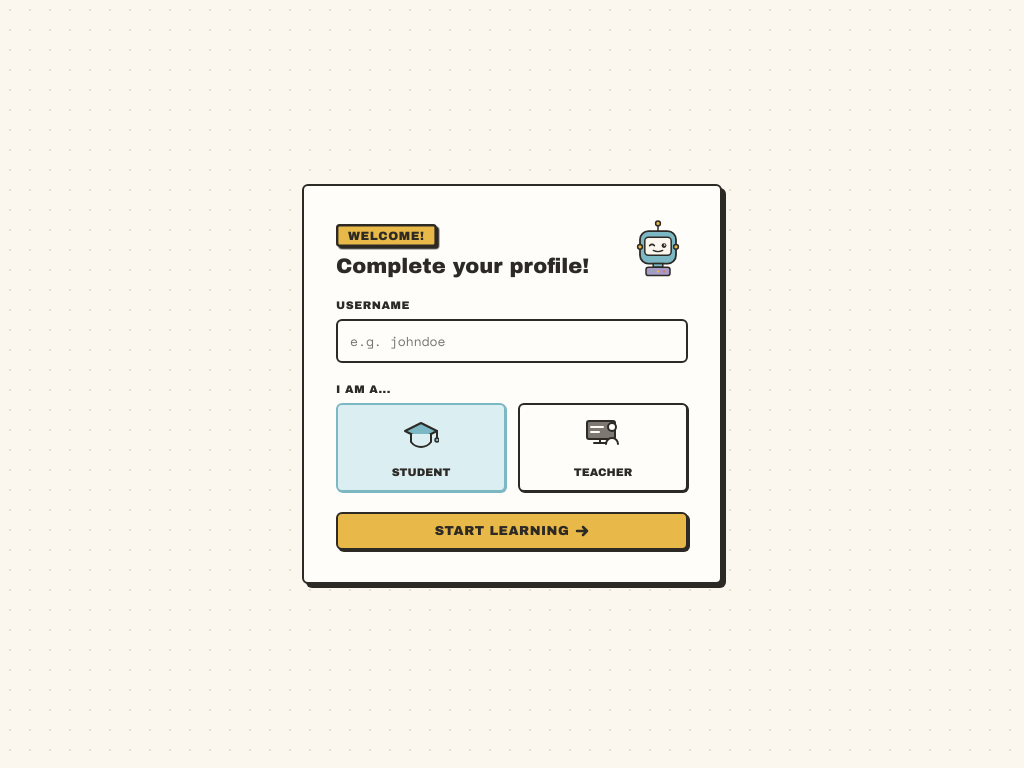
RegisterPage › shows an error when username is shorter than 3 chars
Expected: the text "Complete your profile!" is shown, x1=336 y1=254 x2=589 y2=279
Type "ab" into the field with placeholder "e.g. johndoe" at (512, 341), box x1=336 y1=319 x2=688 y2=363
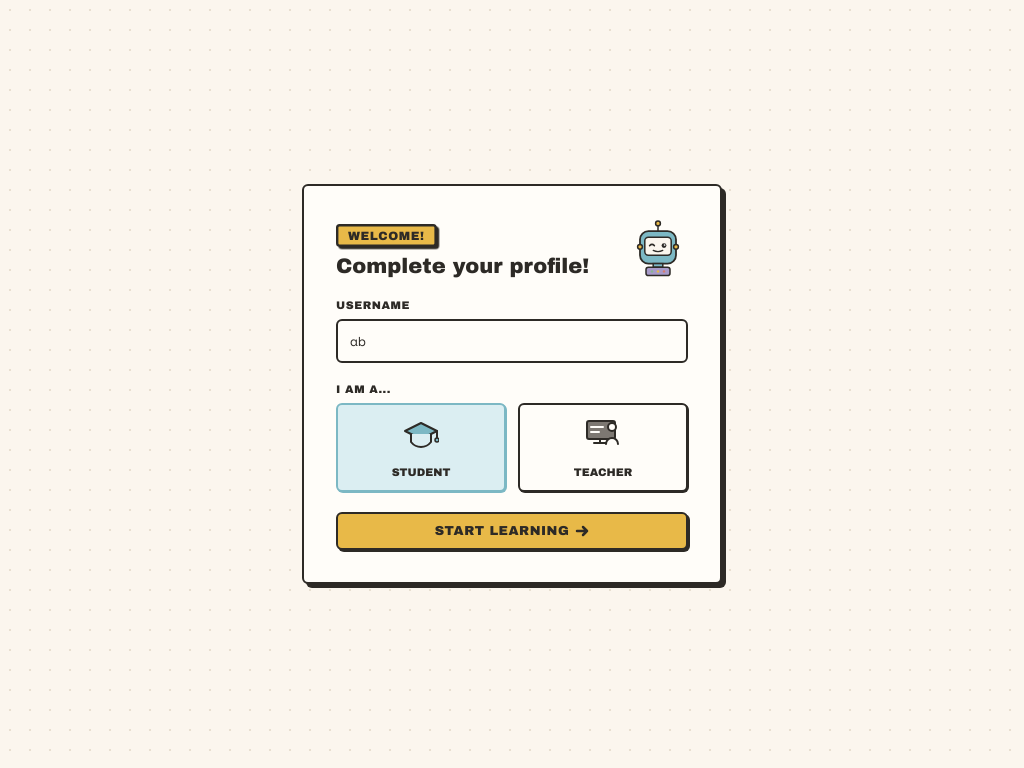
Click the button "Start Learning" at (512, 531), box x1=336 y1=512 x2=688 y2=550
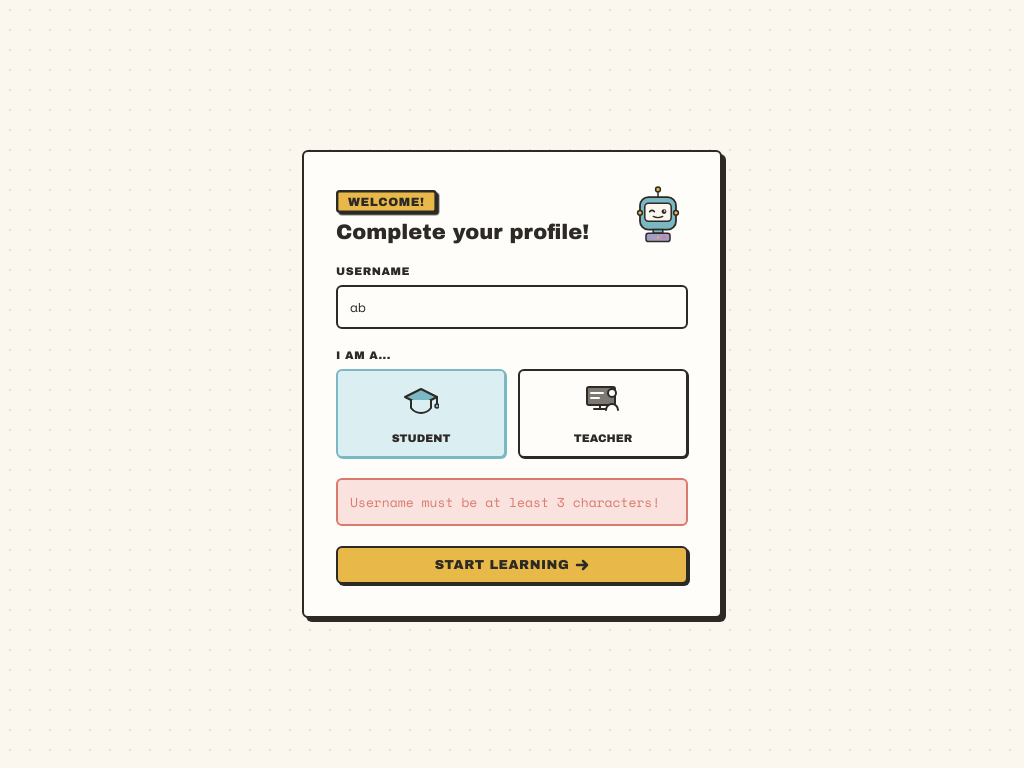
Expected: the text "Username must be at least 3 characters!" is shown, x1=336 y1=478 x2=688 y2=526
